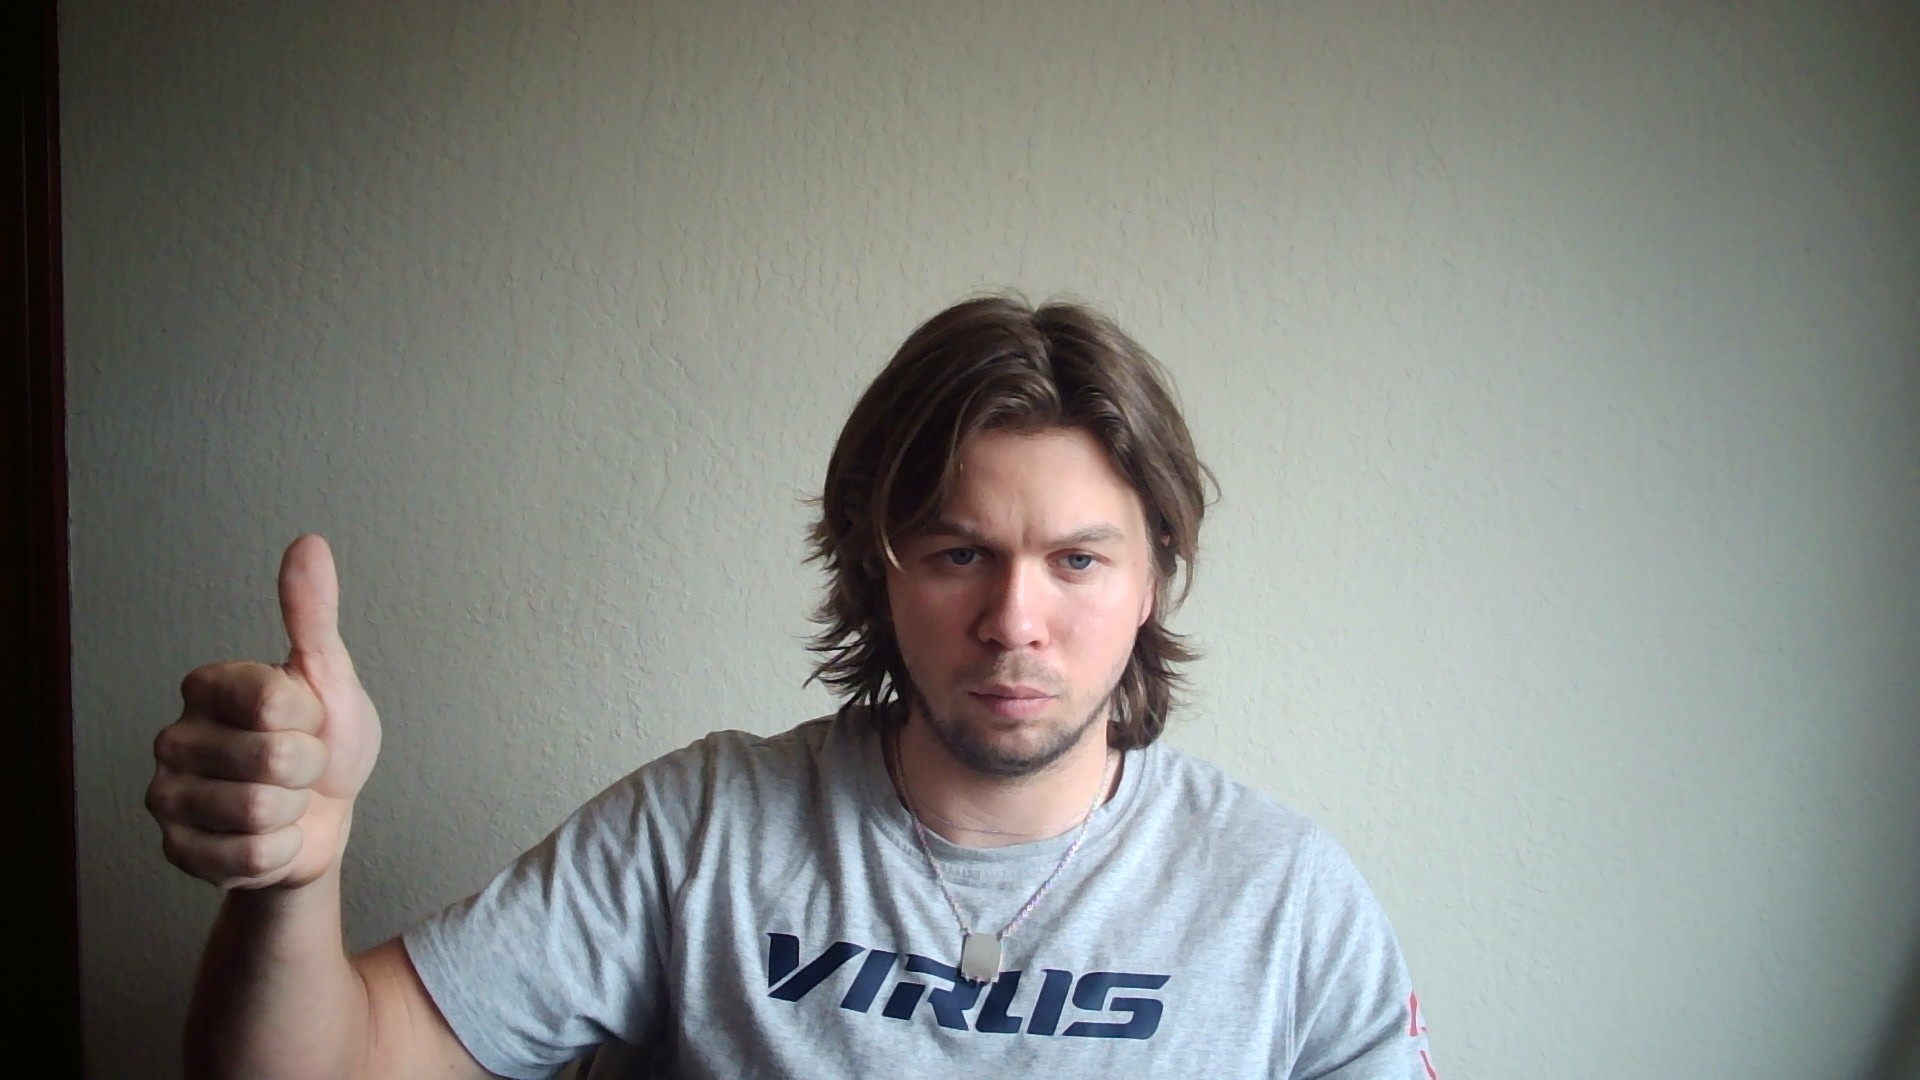good: (146, 535, 382, 894)
